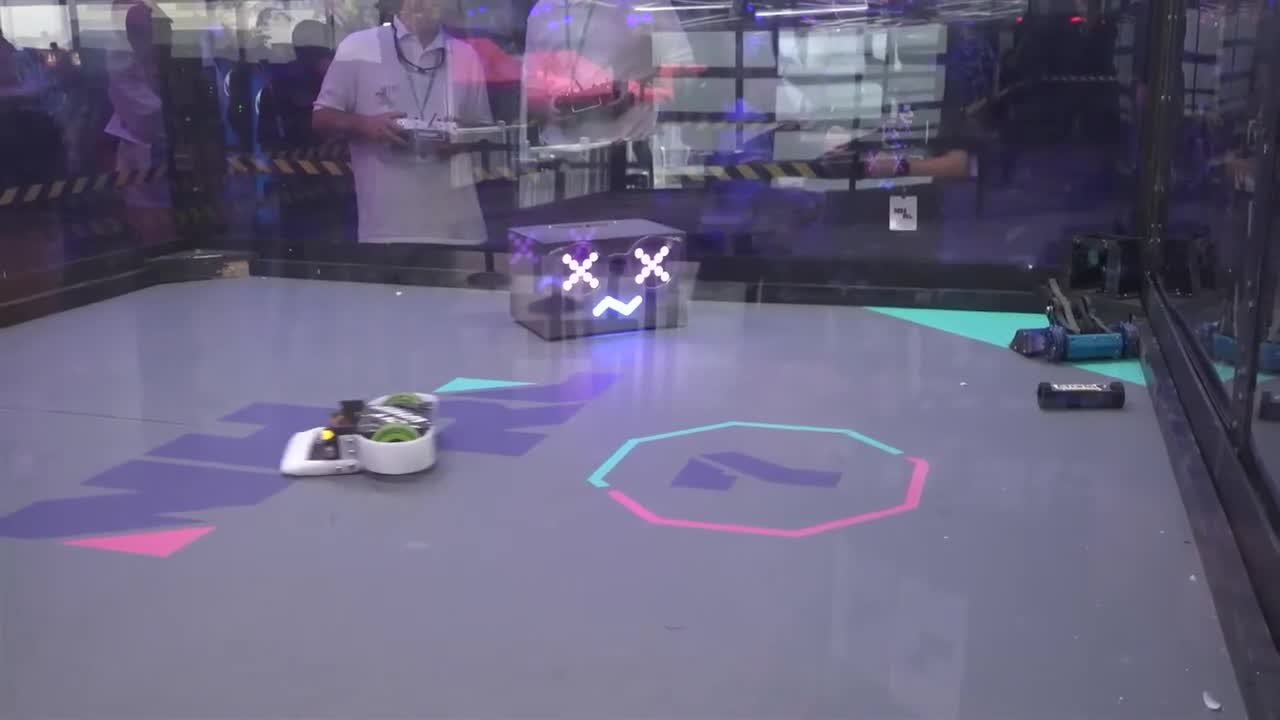combatbot: (282, 391, 441, 476), (1010, 278, 1144, 365)
housebot: (505, 219, 689, 345)
minibot: (1033, 376, 1126, 412)
